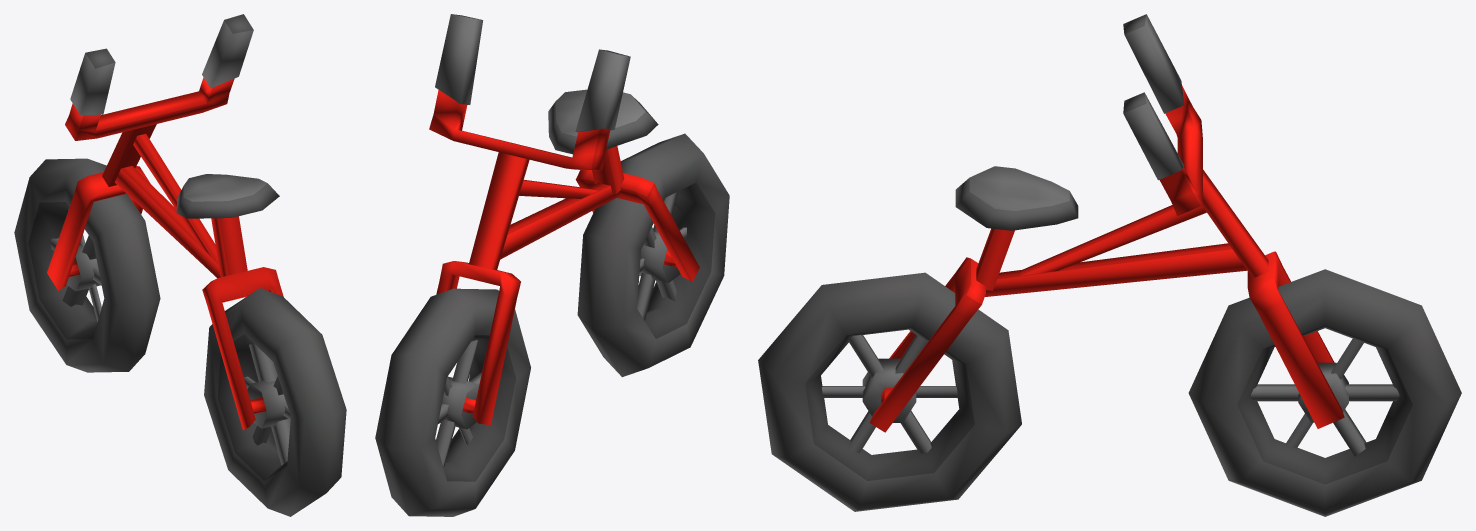
Rendered from Bicicleta.fbx.
3 views of the same model, side by side, from view 1: azimuth 30°, elevation 25°; view 2: azimuth 150°, elevation 25°; view 3: azimuth 270°, elevation 25° (orthographic). The views are drawn at different scales.
Visible parts, largest first — view 1: Bicicleta; view 2: Bicicleta; view 3: Bicicleta.
Part boxes in pixels (left/top/right/bottom): Bicicleta: left=14, top=14, right=346, bottom=516; Bicicleta: left=375, top=14, right=729, bottom=516; Bicicleta: left=758, top=14, right=1461, bottom=516.
Bounding box in the file's own units: 32.57 × 77.66 × 108.
